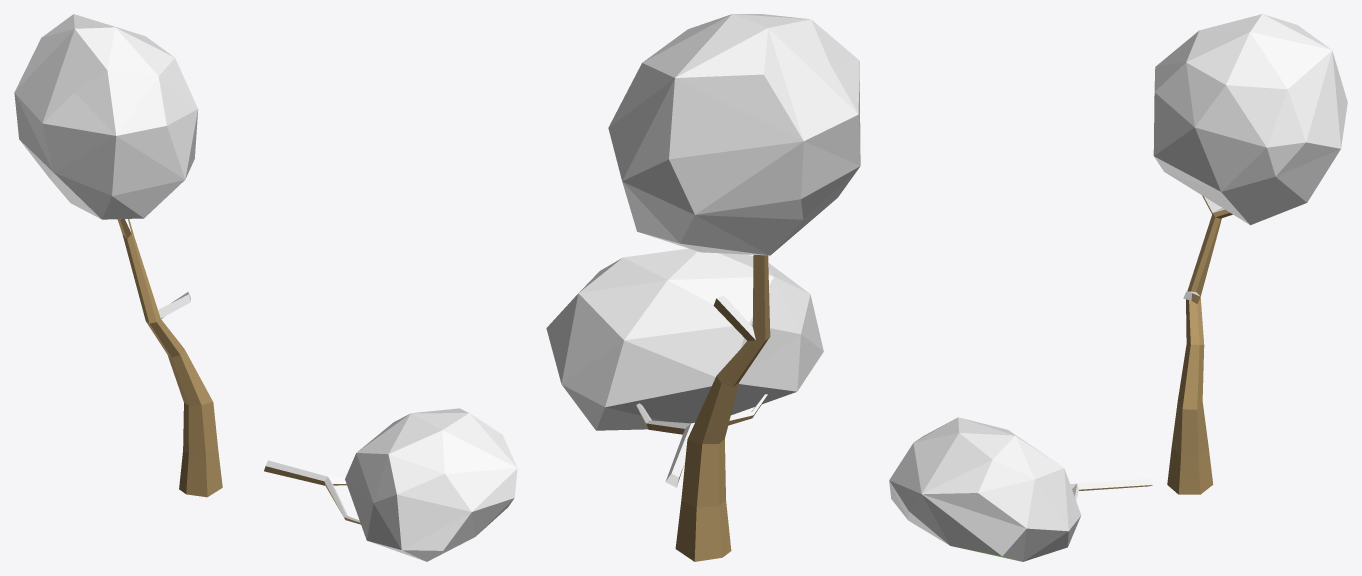
The model's file is Oak_Tree_crk_m_Snow_BT_01.fbx.
3 views of the same model, side by side, from view 1: azimuth 30°, elevation 25°; view 2: azimuth 150°, elevation 25°; view 3: azimuth 270°, elevation 25° (orthographic). The views are drawn at different scales.
Parts seen in each view (by area): view 1: Oak_Tree_crk_m_Snow_BT_01; view 2: Oak_Tree_crk_m_Snow_BT_01; view 3: Oak_Tree_crk_m_Snow_BT_01.
Part boxes in pixels (left/top/right/bottom): Oak_Tree_crk_m_Snow_BT_01: left=14, top=14, right=517, bottom=561; Oak_Tree_crk_m_Snow_BT_01: left=546, top=14, right=860, bottom=561; Oak_Tree_crk_m_Snow_BT_01: left=889, top=14, right=1347, bottom=561.
Size of the model in its own units: 643 by 795 by 764.
